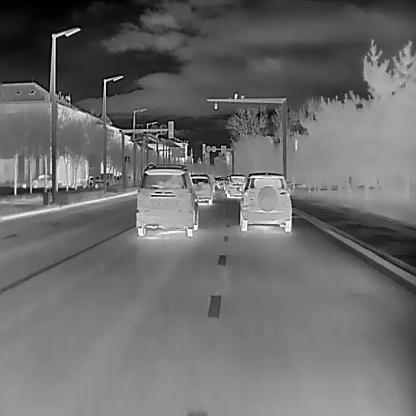car: (135, 162, 201, 236), (236, 170, 291, 232), (189, 172, 213, 204), (226, 173, 246, 197), (32, 172, 52, 187)
